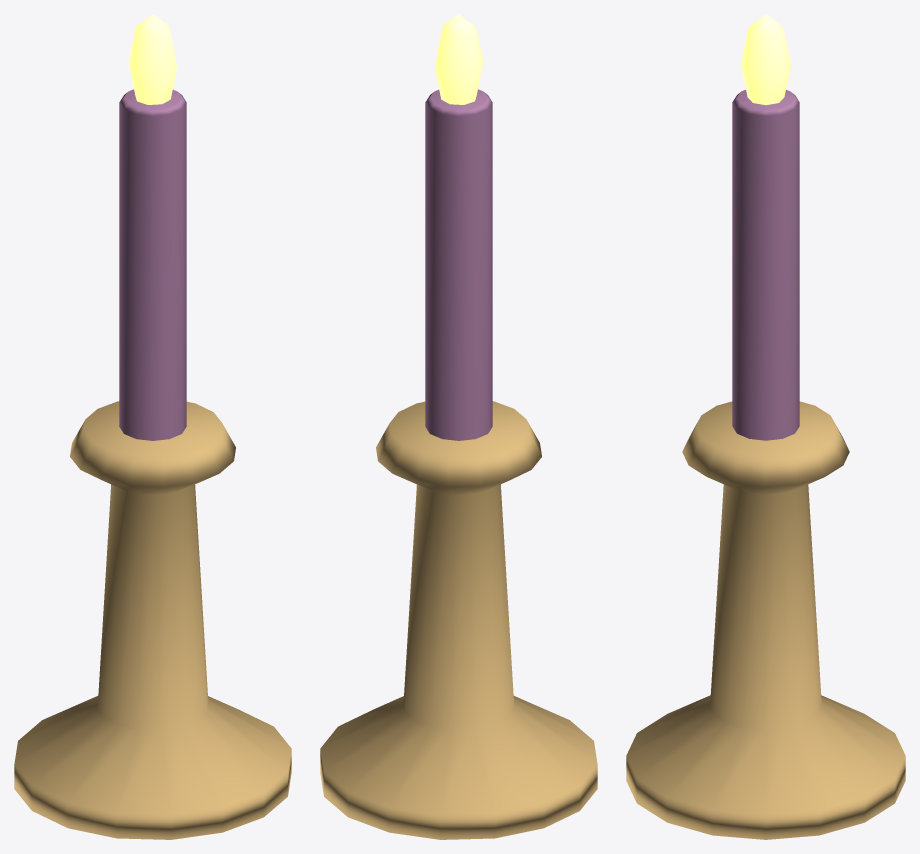
File: Brass_Candlestick.fbx
The picture shows the model from 3 angles, left to right: view 1: azimuth 30°, elevation 25°; view 2: azimuth 150°, elevation 25°; view 3: azimuth 270°, elevation 25°; orthographic projection.
Parts seen in each view (by area): view 1: Brass_Candlestick_Mesh; view 2: Brass_Candlestick_Mesh; view 3: Brass_Candlestick_Mesh.
Part boxes in pixels (bbox=[...]): Brass_Candlestick_Mesh: bbox=[14, 14, 291, 839]; Brass_Candlestick_Mesh: bbox=[320, 14, 597, 839]; Brass_Candlestick_Mesh: bbox=[626, 14, 905, 839].
Size of the model in its own units: 0.1 by 0.303 by 0.1.
